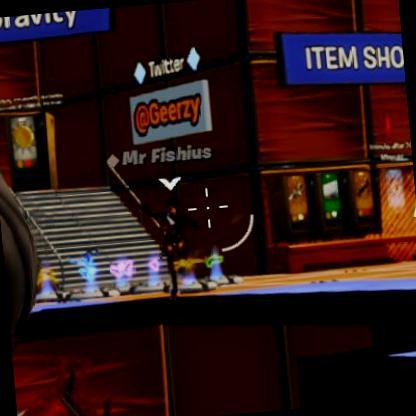person: (160, 197, 199, 294)
